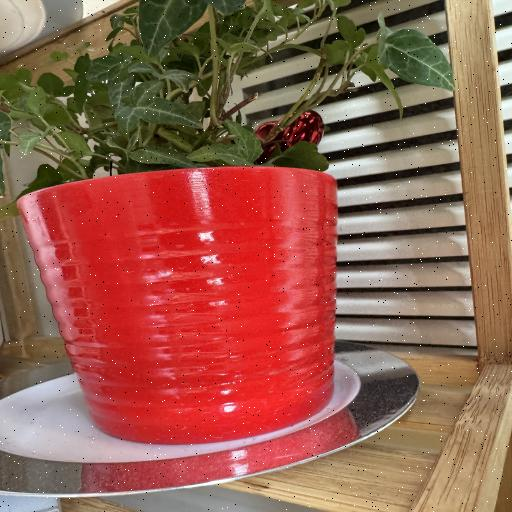Plant Pot: (18, 154, 340, 438)
